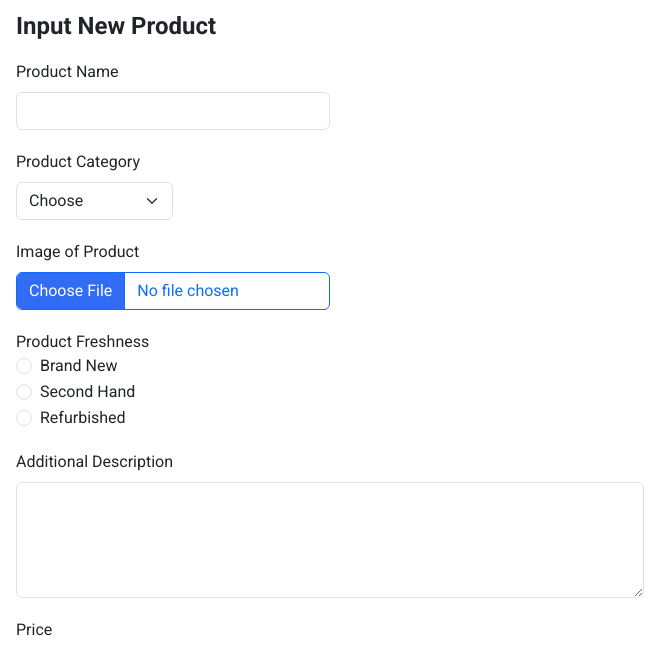
it: Form › product name must be less than 25 characters
Type "Lorem ipsum dolor, sit amet consectetur adipisicing elit" into the field with test id "name-input" at [173, 111], box left=16, top=92, right=330, bottom=130
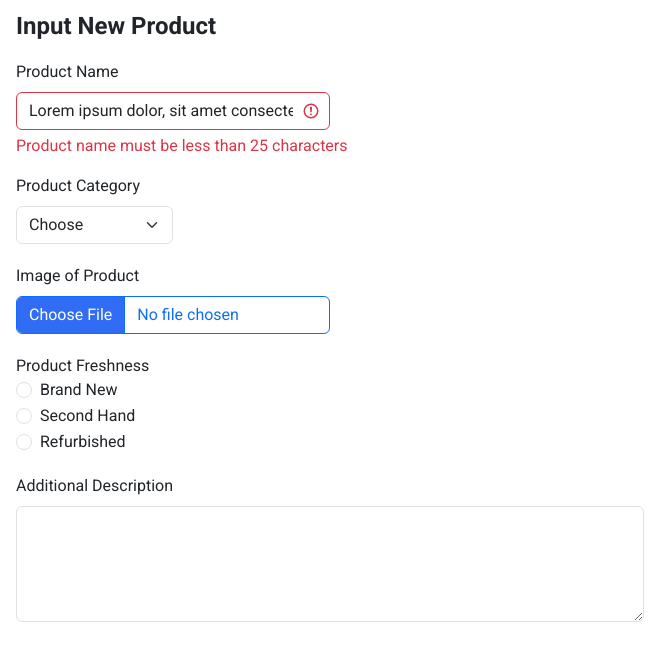
Expected: the text with test id "name-error" reads "Product name must be less than 25 characters", left=16, top=136, right=348, bottom=155
